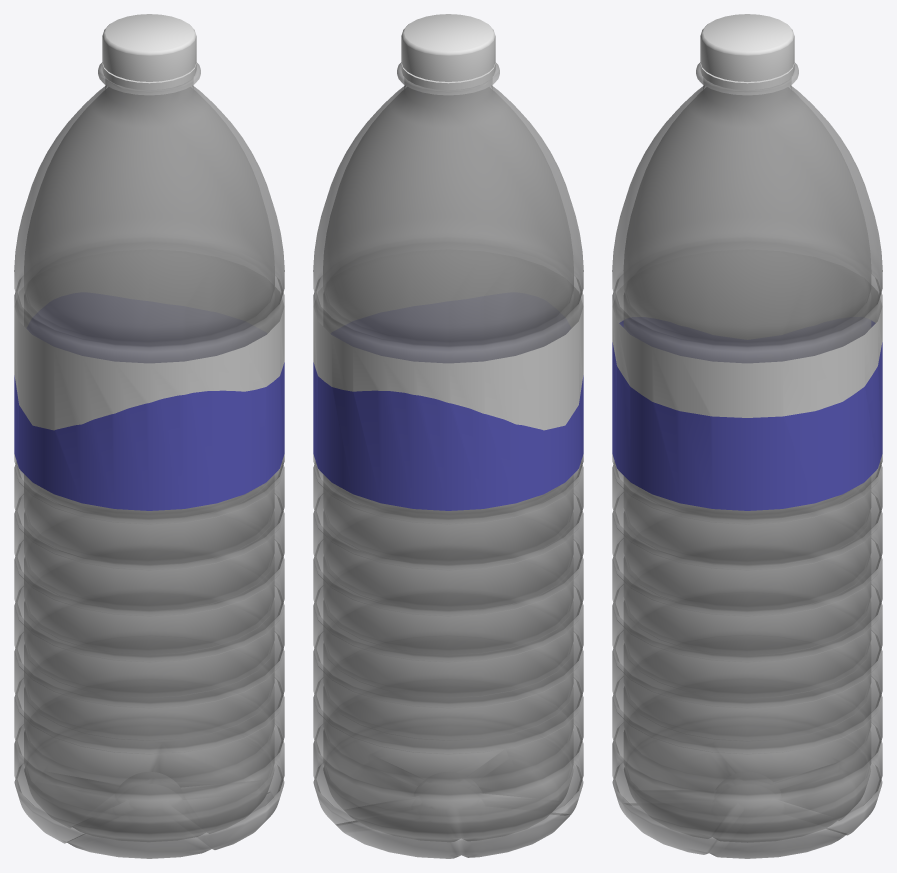
File: bottle_plastic_water.fbx
3 views of the same model, side by side, from view 1: azimuth 30°, elevation 25°; view 2: azimuth 150°, elevation 25°; view 3: azimuth 270°, elevation 25° (orthographic).
Parts seen in each view (by area): view 1: plastic_water_bottle, plastic_water_bottle_interior, plastic_water_bottle-Cap; view 2: plastic_water_bottle, plastic_water_bottle_interior, plastic_water_bottle-Cap; view 3: plastic_water_bottle, plastic_water_bottle_interior, plastic_water_bottle-Cap.
Part boxes in pixels (x1,y1,x2,y2): plastic_water_bottle: (14,62,284,858); plastic_water_bottle_interior: (24,82,274,841); plastic_water_bottle-Cap: (102,14,196,81); plastic_water_bottle: (313,62,583,858); plastic_water_bottle_interior: (323,82,573,841); plastic_water_bottle-Cap: (401,14,495,81); plastic_water_bottle: (612,62,882,858); plastic_water_bottle_interior: (623,82,871,842); plastic_water_bottle-Cap: (700,14,794,81).
Size of the model in its own units: 0.2022 by 0.6394 by 0.2022.
